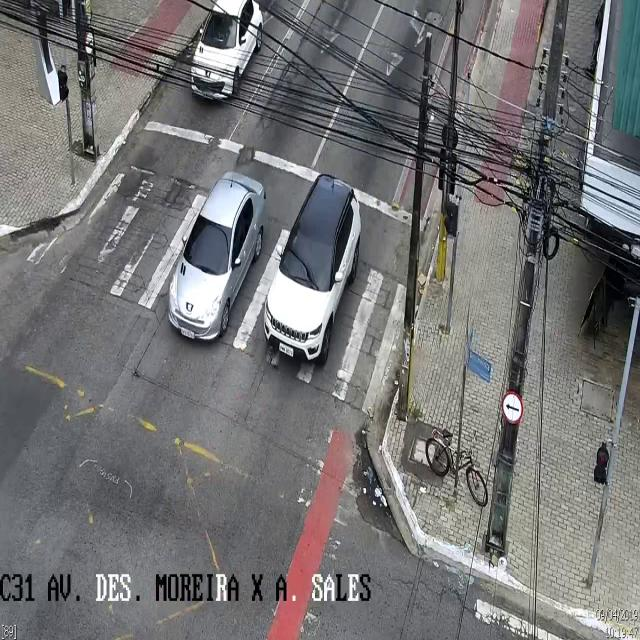Car: (264, 173, 362, 367), (168, 172, 266, 344), (192, 0, 266, 96)
